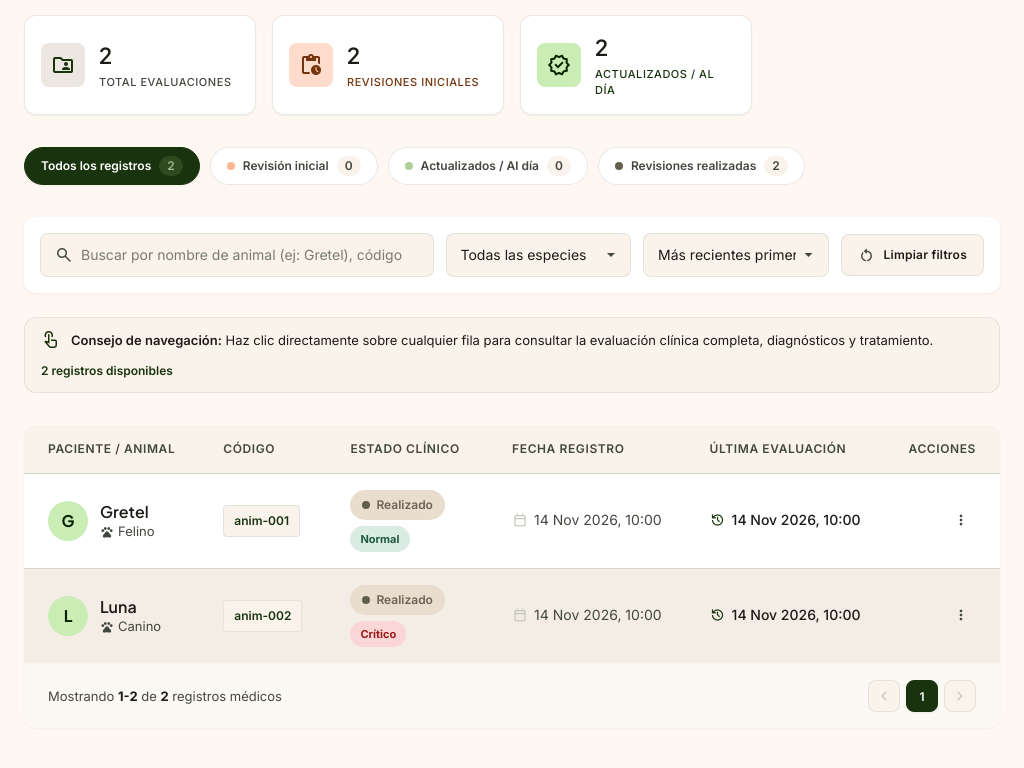
Test: RegistroMedicoHistorialPage › permite a la veterinaria entrar a edición desde el modal
(page scrolled)
What coordinates should you click on to do the following:
click the button with aria-label "Ver ficha médica de Gretel"
I would click on:
 (512, 521)
Its box is 24,474 -> 1000,569.
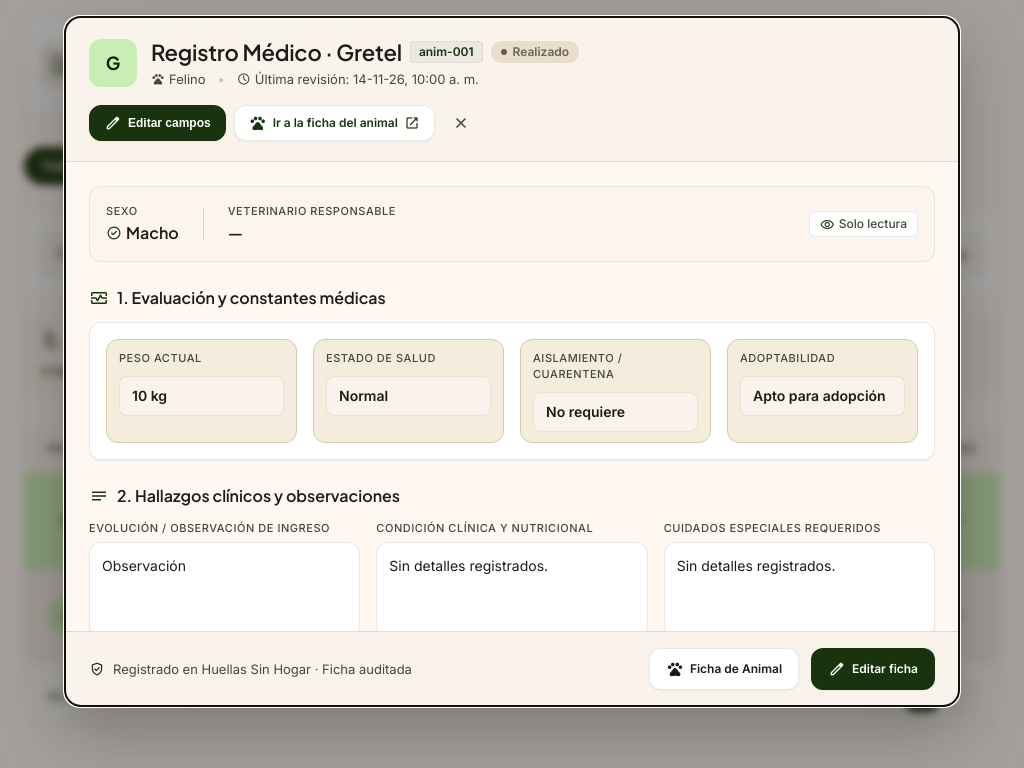
expect the heading "Registro Médico · Gretel" is shown: met, box 151,37 -> 402,67
What coordinates should you click on to do the following:
click the button "Editar campos"
I would click on:
 (157, 123)
Its box is 89,105 -> 226,141.
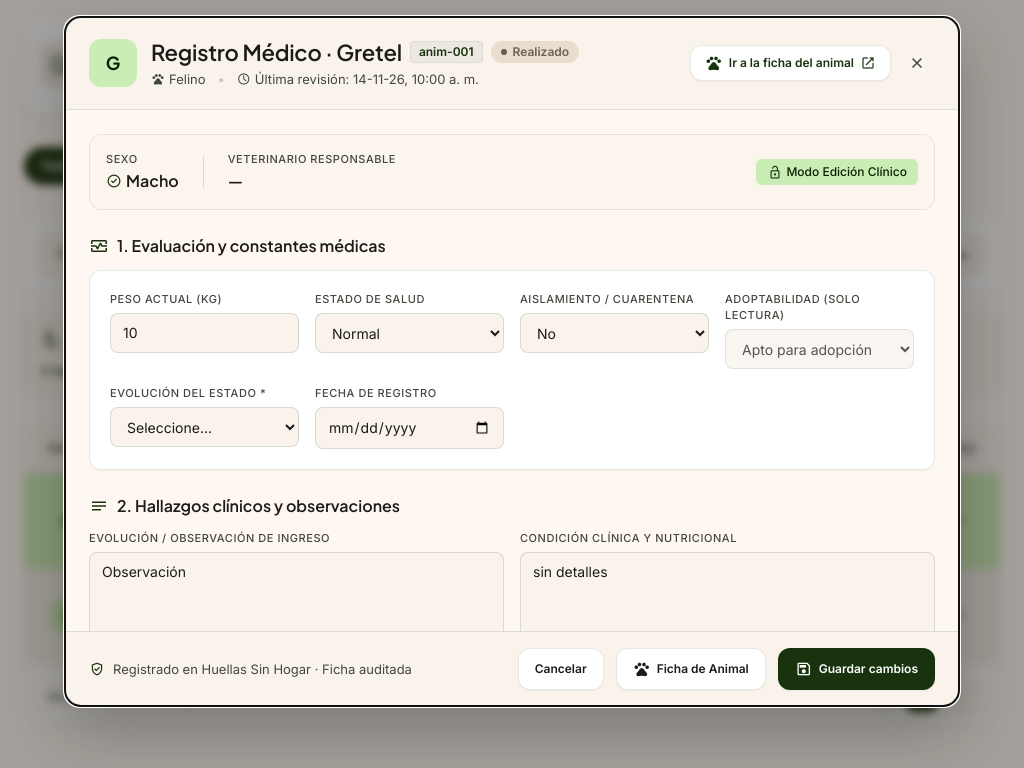
expect the text "Modo Edición Clínico" is shown: met, box 756,159 -> 918,185
expect the number field labelled "Peso actual (kg)" is shown: met, box 110,313 -> 299,353
